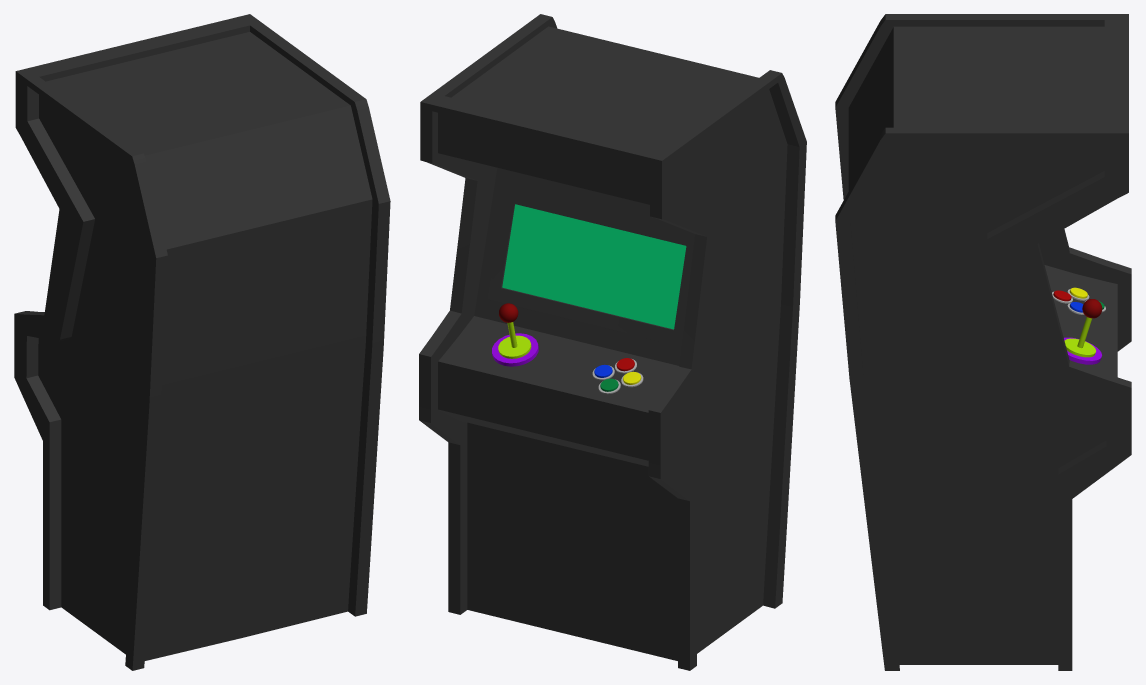
The model's file is sm_arcademachinePLACEHOLDER.fbx.
3 views of the same model, side by side, from view 1: azimuth 30°, elevation 25°; view 2: azimuth 150°, elevation 25°; view 3: azimuth 270°, elevation 25° (orthographic). The views are drawn at different scales.
Visible parts, largest first — view 1: arcademachine_low; view 2: arcademachine_low, screen_low, joystick_low, buttons_low; view 3: arcademachine_low, joystick_low, buttons_low.
Part boxes in pixels (x1,y1,x2,y2): arcademachine_low: [14, 14, 390, 670]; arcademachine_low: [419, 14, 806, 670]; screen_low: [502, 204, 686, 329]; joystick_low: [492, 303, 538, 366]; buttons_low: [592, 358, 643, 394]; arcademachine_low: [835, 14, 1131, 670]; joystick_low: [1064, 299, 1102, 364]; buttons_low: [1052, 287, 1105, 314].
Bounding box in the file's own units: 97.84 × 205 × 103.
